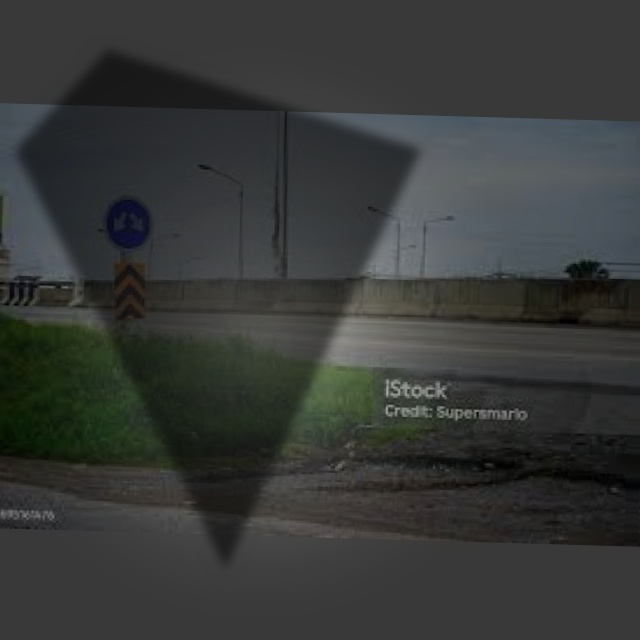Pass_Either_Side: (106, 194, 155, 250)
